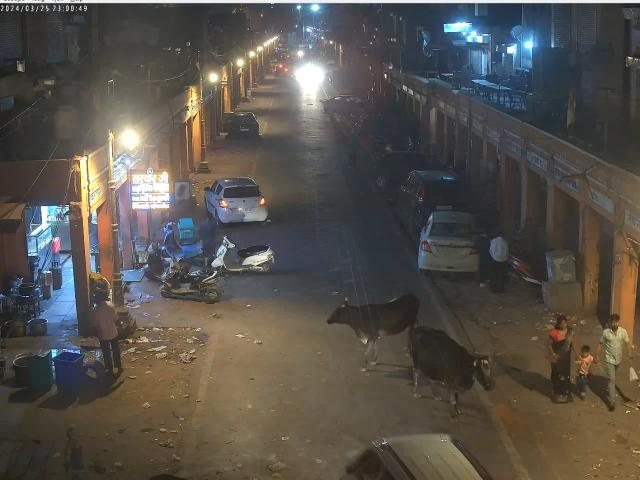car: (418, 210, 481, 278), (395, 170, 468, 222), (204, 176, 268, 228)
cattle: (412, 326, 494, 422), (326, 292, 419, 372), (574, 342, 596, 401)
license_plate: (441, 246, 460, 255), (238, 208, 254, 213)
person: (88, 286, 125, 376), (596, 316, 628, 408), (546, 315, 574, 402), (489, 230, 505, 294), (199, 212, 215, 268)
scooty: (159, 261, 223, 304), (212, 235, 274, 276), (161, 225, 206, 264), (141, 244, 184, 280)
